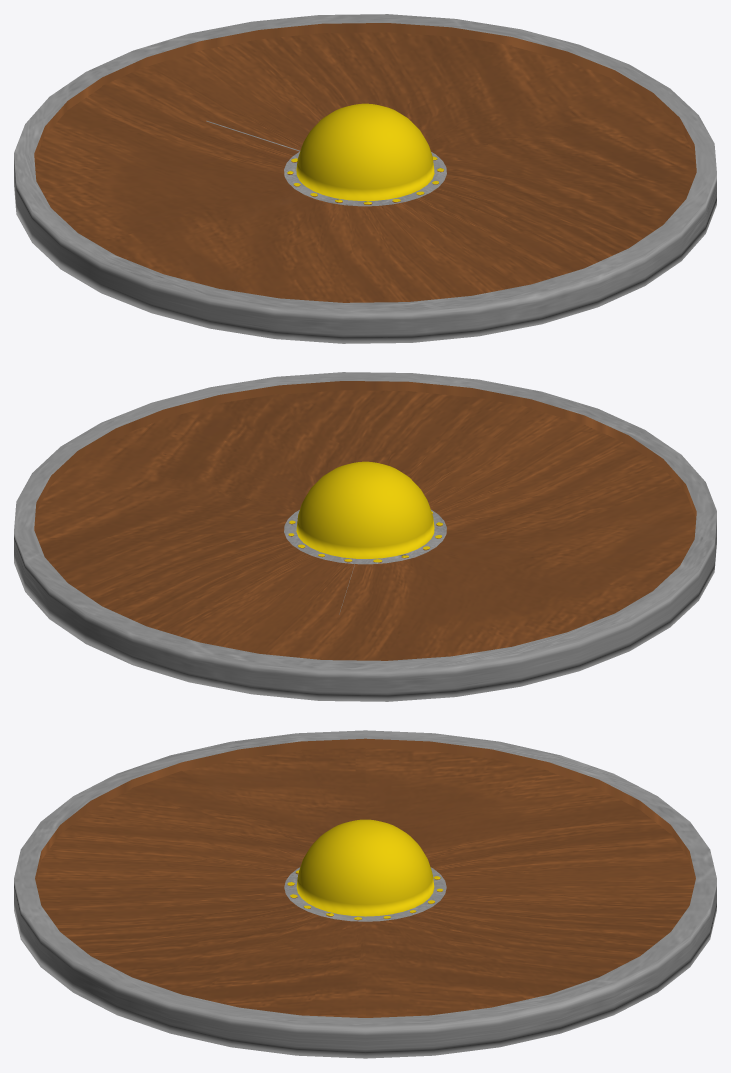
Rendered from EscudosVinicius1.fbx.
3 views of the same model, one above another, from view 1: azimuth 30°, elevation 25°; view 2: azimuth 150°, elevation 25°; view 3: azimuth 270°, elevation 25° (orthographic).
Parts seen in each view (by area): view 1: Cylinder; view 2: Cylinder; view 3: Cylinder.
Part boxes in pixels (x1=…): Cylinder: x1=14, y1=14, x2=716, y2=343; Cylinder: x1=14, y1=372, x2=716, y2=701; Cylinder: x1=14, y1=730, x2=716, y2=1058.
Bounding box in the file's own units: 212 × 45.54 × 213.
